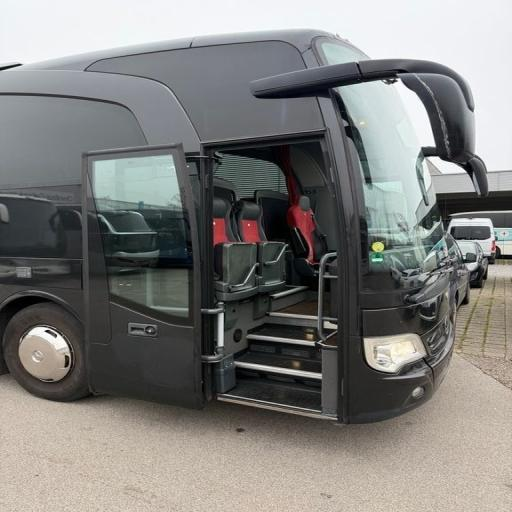bicycle: (0, 30, 487, 422), (450, 211, 511, 257)
